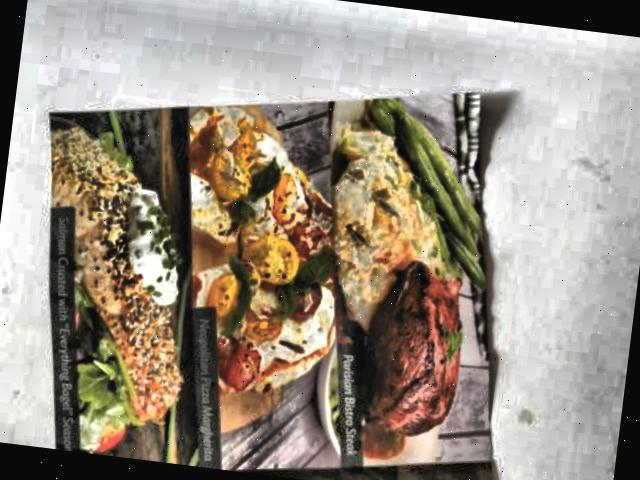Paper: (9, 37, 546, 480)
